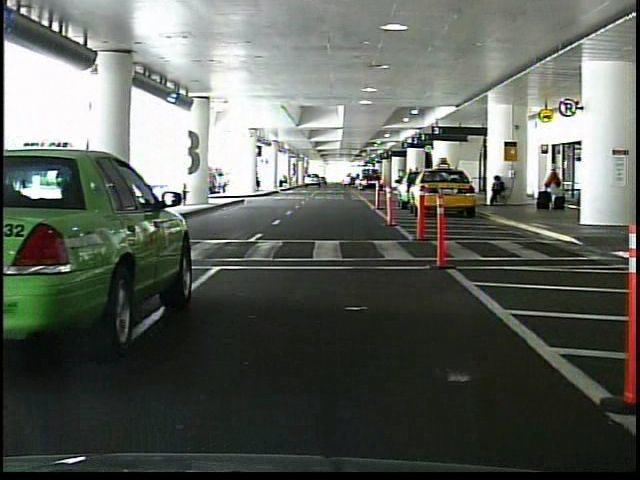person: (57, 147, 82, 228), (546, 163, 566, 212), (487, 173, 508, 207)
